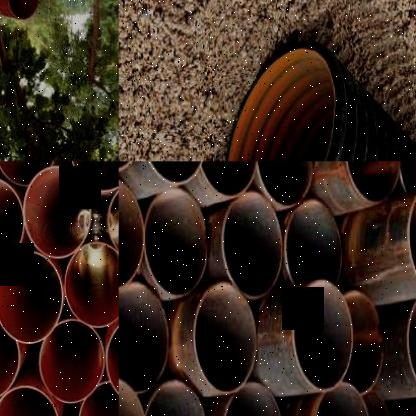pipe: (223, 42, 343, 161), (140, 186, 210, 298), (288, 276, 355, 391), (192, 280, 258, 395), (220, 189, 286, 300), (24, 166, 91, 259), (119, 278, 170, 394), (0, 251, 63, 344), (38, 319, 106, 404), (283, 195, 344, 287), (343, 289, 387, 397), (64, 242, 119, 326), (119, 174, 144, 291), (342, 161, 404, 207), (256, 161, 315, 207), (142, 378, 209, 416), (308, 379, 376, 416), (220, 379, 287, 416), (199, 161, 261, 199), (0, 175, 24, 267), (0, 385, 60, 416), (0, 315, 20, 400), (0, 161, 57, 187), (70, 161, 119, 191), (78, 381, 118, 416), (405, 182, 416, 295), (404, 297, 416, 399), (7, 0, 38, 19), (399, 161, 416, 193)
